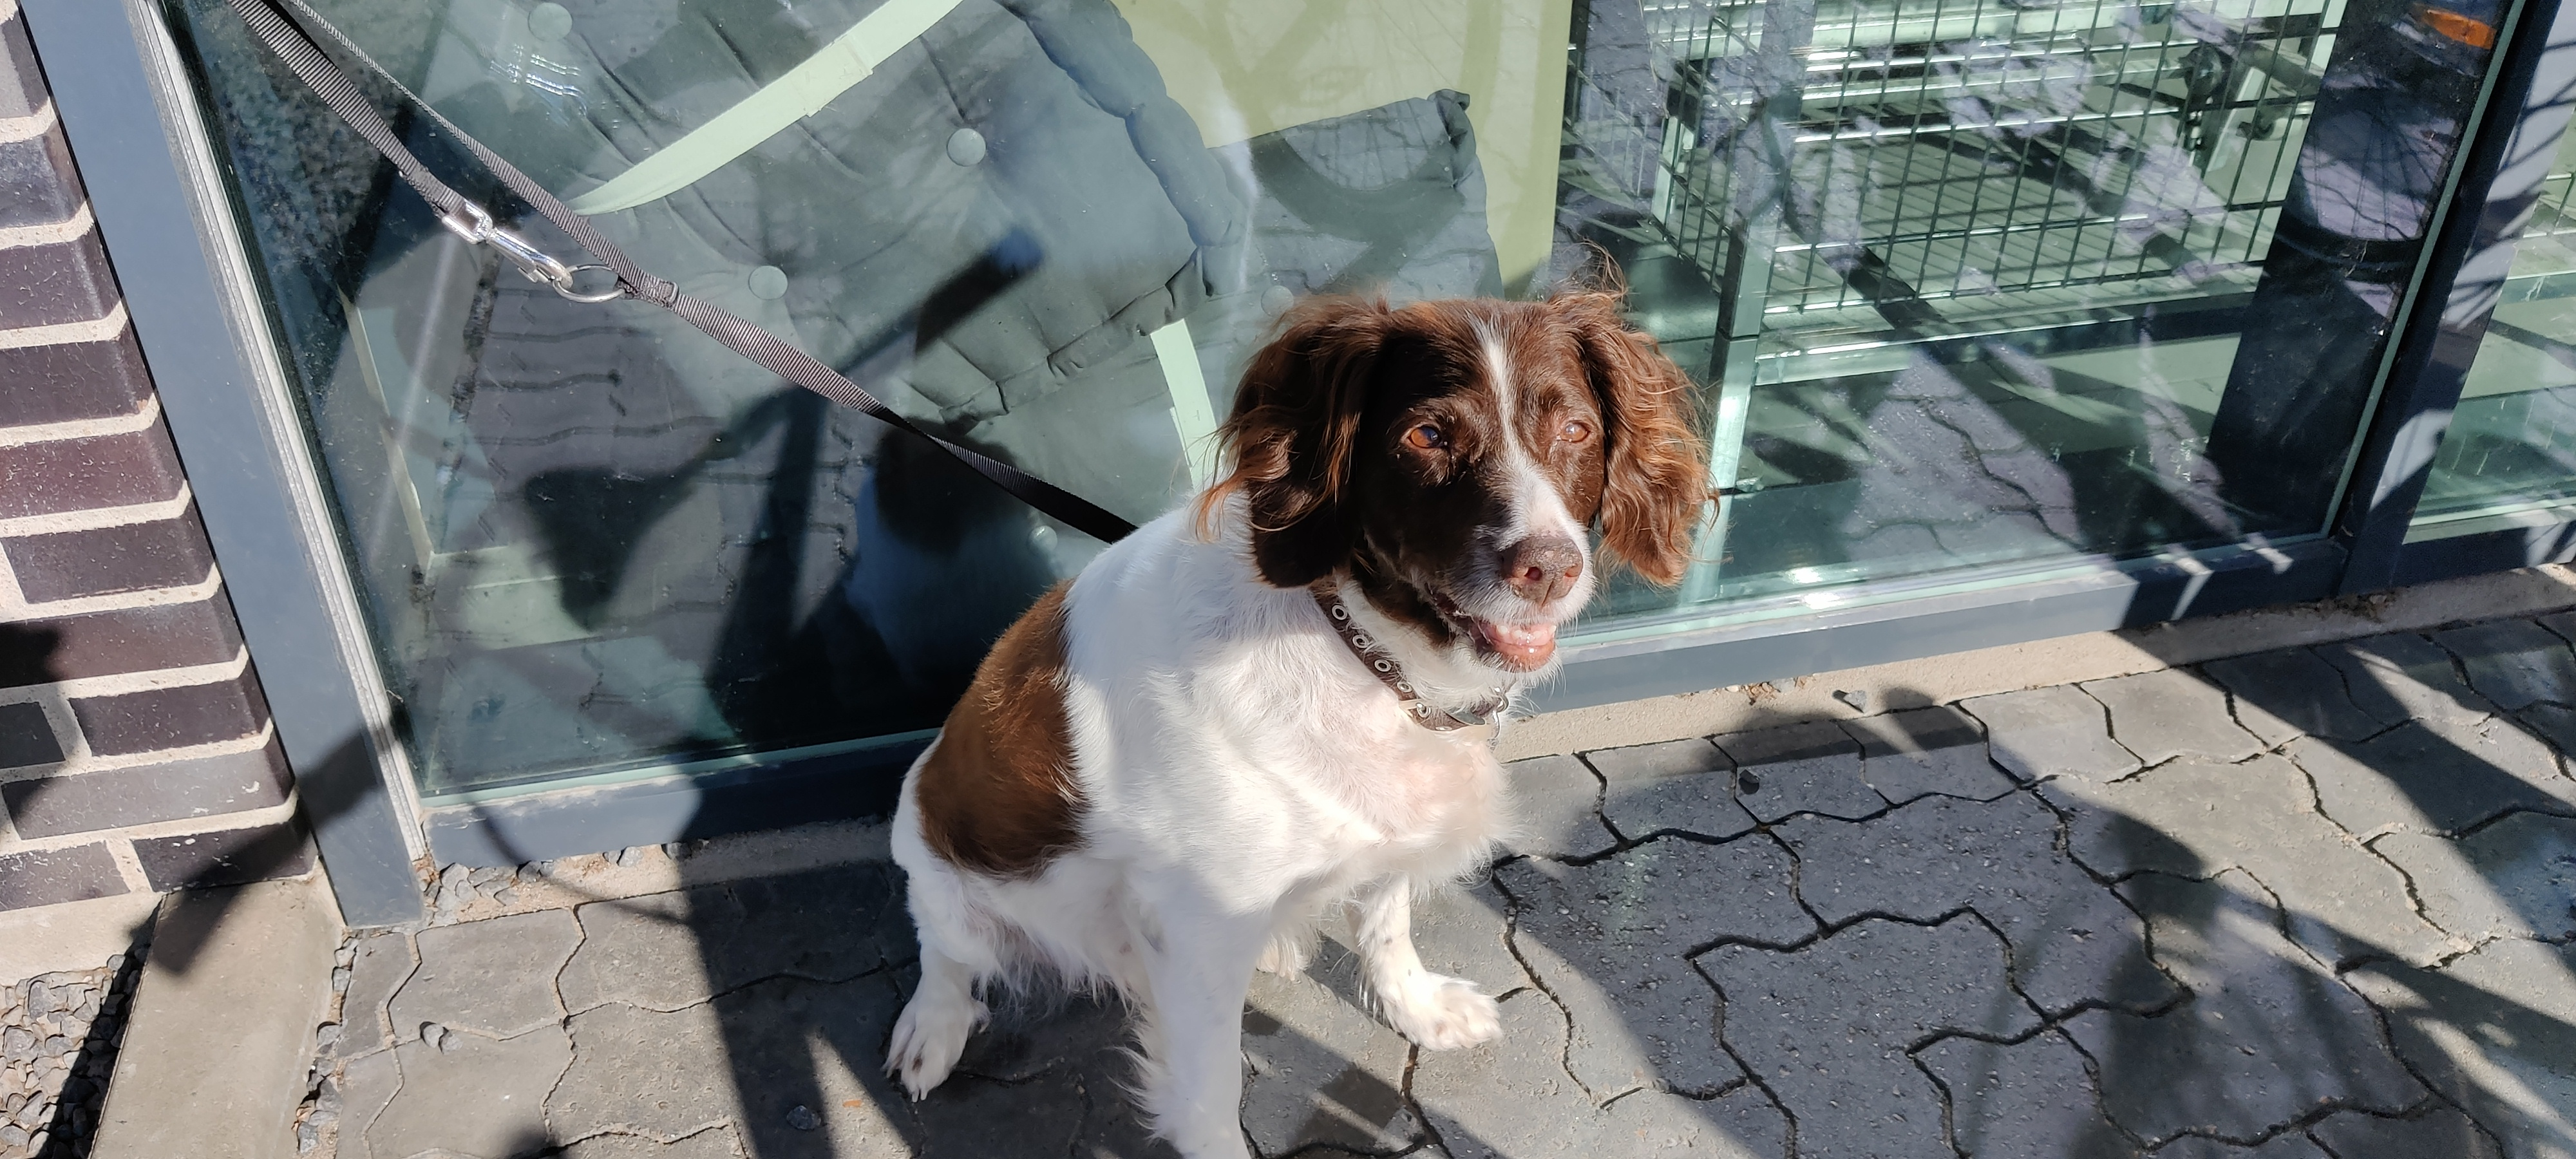Dog: (874, 277, 1722, 1159)
